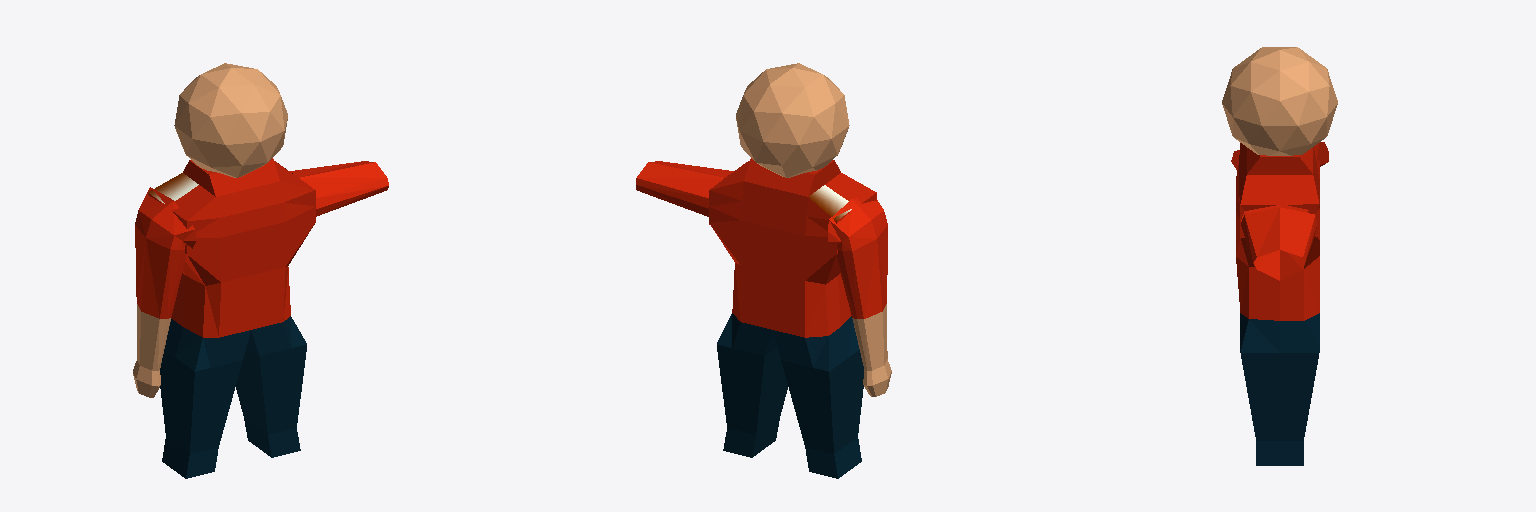
3 renders of one model, left to right at view 1: azimuth 30°, elevation 25°; view 2: azimuth 150°, elevation 25°; view 3: azimuth 270°, elevation 25°, orthographic.
Visible parts, largest first — view 1: Person; view 2: Person; view 3: Person.
Boxes of the visible parts, box(x1,y1,x2,y2) form: Person: box(133, 63, 388, 478); Person: box(636, 63, 891, 478); Person: box(1222, 47, 1337, 465).
Bounding box in the file's own units: 2.11 × 3.27 × 0.8896.
1 materials, 1 textured.